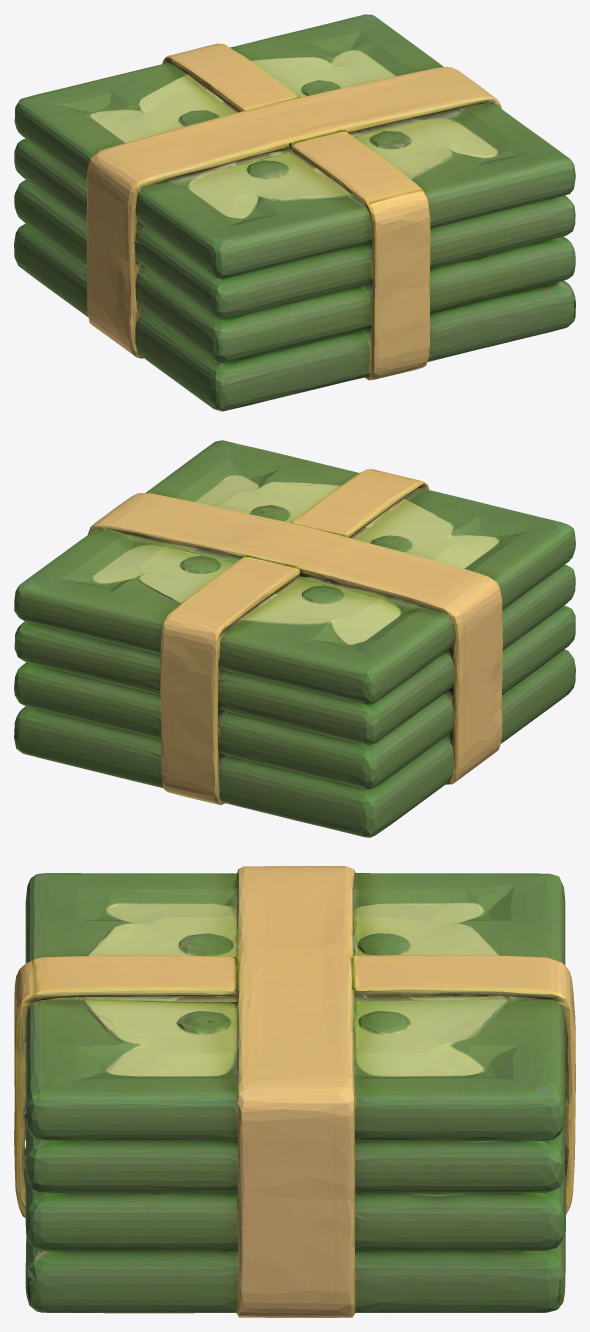
Rendered from Money_Stack_Icon_0602081535_texture.fbx.
3 views of the same model, one above another, from view 1: azimuth 30°, elevation 25°; view 2: azimuth 150°, elevation 25°; view 3: azimuth 270°, elevation 25° (orthographic). The views are drawn at different scales.
Parts seen in each view (by area): view 1: temp; view 2: temp; view 3: temp.
Part boxes in pixels (x1,y1,x2,y2): temp: [14, 14, 575, 411]; temp: [14, 440, 575, 837]; temp: [14, 866, 575, 1317].
Bounding box in the file's own units: 200 × 93.77 × 200.
Materials: 1 (1 with a texture image).
